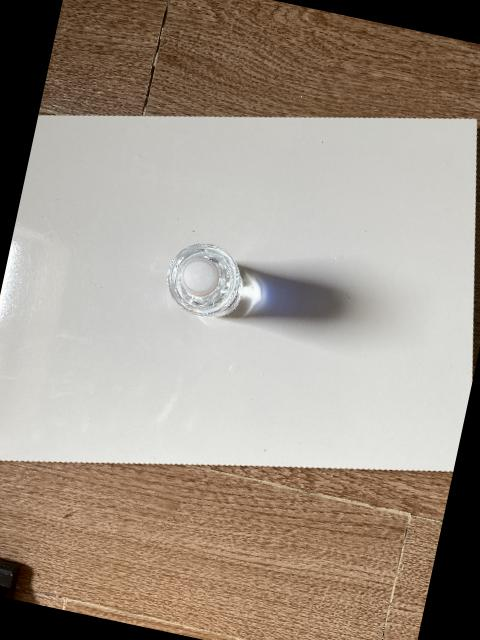aquafina: (167, 244, 243, 317)
